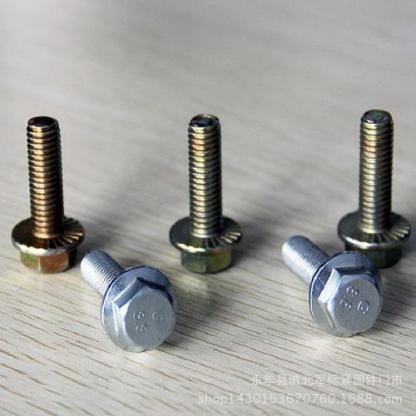FOD: (335, 107, 412, 272), (169, 109, 243, 276), (9, 117, 85, 276), (280, 233, 386, 340), (78, 248, 179, 354)
